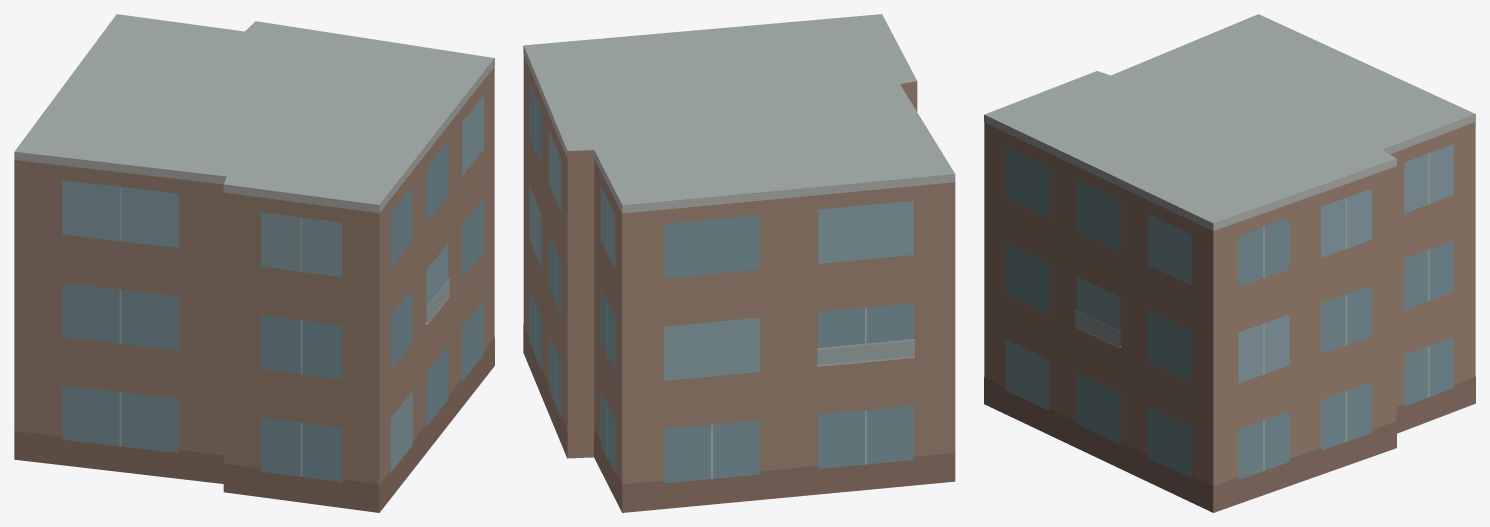
File: survey-upis-32656493.glb
The picture shows the model from 3 angles, left to right: view 1: azimuth 30°, elevation 25°; view 2: azimuth 150°, elevation 25°; view 3: azimuth 270°, elevation 25°; orthographic projection. The views are drawn at different scales.
Parts seen in each view (by area): view 1: survey-upis-32656493.tmp; view 2: survey-upis-32656493.tmp; view 3: survey-upis-32656493.tmp.
Part boxes in pixels (left/top/right/bottom): survey-upis-32656493.tmp: left=14, top=14, right=494, bottom=512; survey-upis-32656493.tmp: left=523, top=14, right=955, bottom=512; survey-upis-32656493.tmp: left=984, top=14, right=1475, bottom=512.
Bounding box in the file's own units: 14.2 × 9.15 × 14.09.
